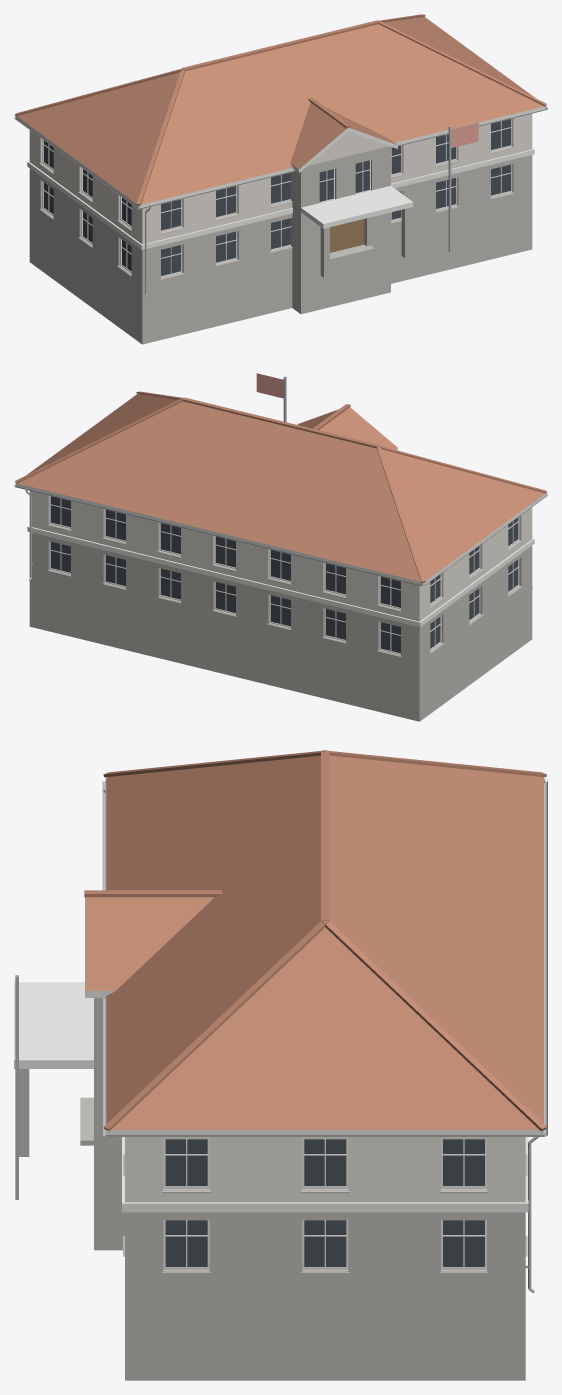
The model's file is public_hipped_2_m.glb.
The picture shows the model from 3 angles, top to bottom: view 1: azimuth 30°, elevation 25°; view 2: azimuth 150°, elevation 25°; view 3: azimuth 270°, elevation 25°; orthographic projection. The views are drawn at different scales.
Visible parts, largest first — view 1: public_hipped_2_m; view 2: public_hipped_2_m; view 3: public_hipped_2_m.
Part boxes in pixels (bbox=[...]): public_hipped_2_m: bbox=[14, 14, 547, 344]; public_hipped_2_m: bbox=[14, 373, 547, 721]; public_hipped_2_m: bbox=[14, 750, 547, 1380].
Bounding box in the file's own units: 27.4 × 13.44 × 17.33.
